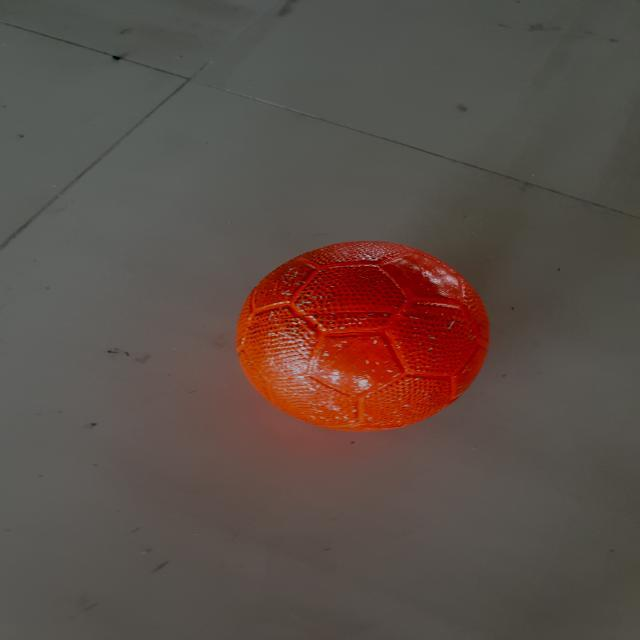bola: (232, 240, 498, 438)
